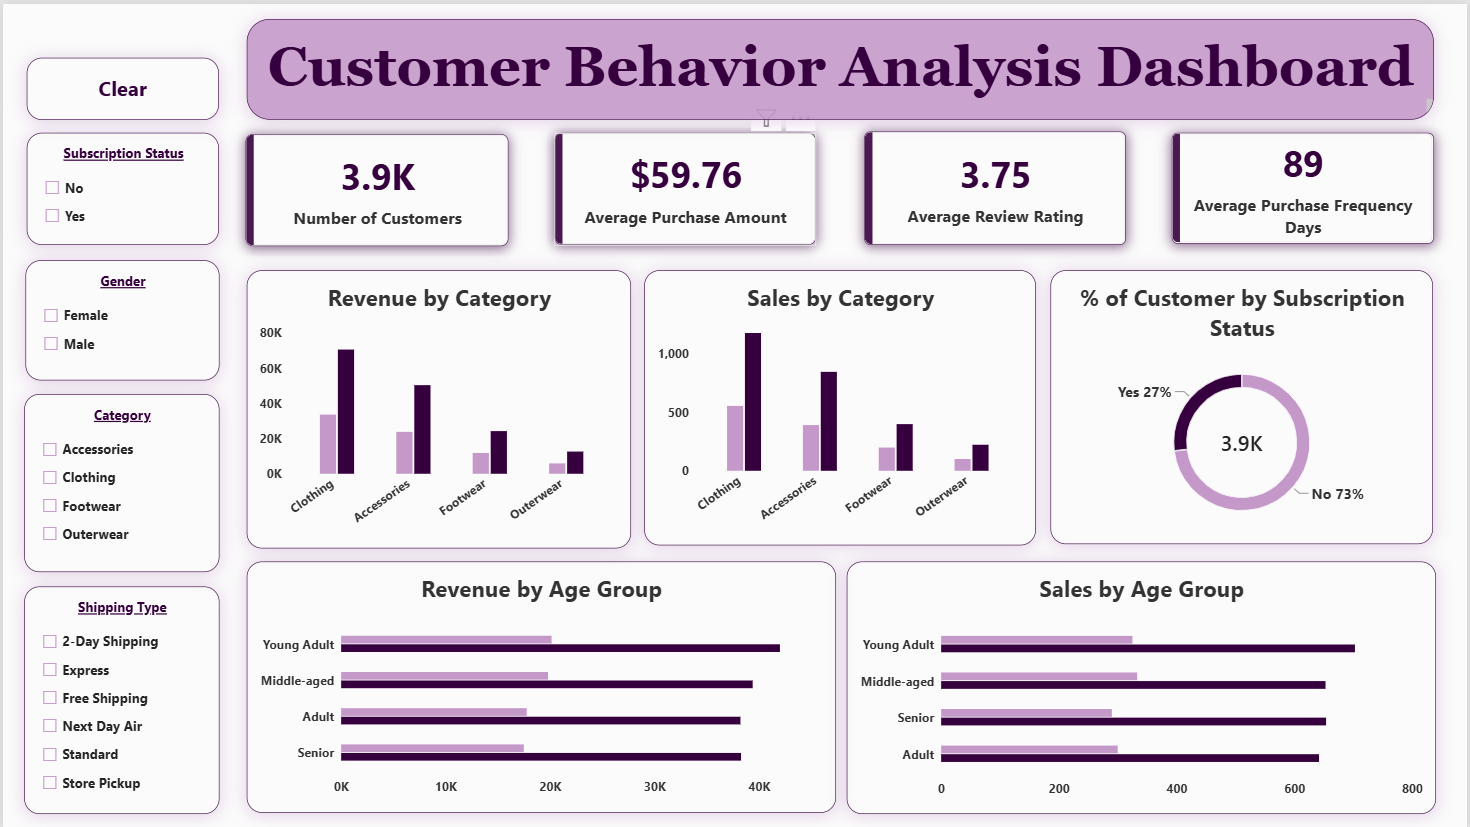

The dashboard page shown, as its layout file describes it:
{"tool":"powerbi","page":{"name":"Page 1","canvas":[1920,1080],"ordinal":0},"visuals":[{"type":"cardVisual","fields":{"Data":["Count(customer_analysis.customer_id)"]},"box":[317.6,170.6,345.1,147.1],"z":0},{"type":"cardVisual","fields":{"Data":["Avg(customer_analysis.purchase_amount)"]},"box":[723.5,168.6,343.1,147.1],"z":1000},{"type":"cardVisual","fields":{"Data":["Avg(customer_analysis.review_rating)"]},"box":[1129.4,166.7,343.1,149],"z":2000},{"type":"cardVisual","fields":{"Data":["Avg(customer_analysis.purchase_frequency_days)"]},"box":[1532.8,169.4,343.8,145.7],"z":3000},{"type":"textbox","title":"Customer Behavior Analysis Dashboard","box":[320.1,20.3,1556.5,132.1],"z":4000},{"type":"clusteredColumnChart","title":"Revenue by Category","fields":{"Y":["Sum(customer_analysis.purchase_amount)"],"Series":["customer_analysis.gender"],"Category":["customer_analysis.category"]},"box":[319.6,349,503.9,364.7],"z":5000},{"type":"clusteredColumnChart","title":"Sales by Category ","fields":{"Category":["customer_analysis.category"],"Series":["customer_analysis.gender"],"Y":["CountNonNull(customer_analysis.previous_purchases)"]},"box":[841.2,349,513.7,360.8],"z":6000},{"type":"clusteredBarChart","title":"Revenue by Age Group ","fields":{"Category":["customer_analysis.age_group"],"Y":["Sum(customer_analysis.purchase_amount)"],"Series":["customer_analysis.gender"]},"box":[319.6,731.4,772.5,329.4],"z":7000},{"type":"clusteredBarChart","title":"Sales by Age Group","fields":{"Category":["customer_analysis.age_group"],"Y":["CountNonNull(customer_analysis.previous_purchases)"],"Series":["customer_analysis.gender"]},"box":[1105.9,731.4,772.5,331.4],"z":8000},{"type":"donutChart","title":"% of  Customer by Subscription Status","fields":{"Category":["customer_analysis.subscription_status"],"Y":["CountNonNull(customer_analysis.subscription_status)"]},"box":[1374.5,349,502,358.8],"z":9000},{"type":"slicer","title":"Subscription Status","fields":{"Values":["customer_analysis.subscription_status"]},"box":[30.5,169.4,252.4,147.4],"z":10000},{"type":"slicer","title":"Gender","fields":{"Values":["customer_analysis.gender"]},"box":[28.8,335.4,254.1,157.5],"z":11000},{"type":"slicer","title":"Category","fields":{"Values":["customer_analysis.category"]},"box":[27.1,511.5,255.8,233.7],"z":12000},{"type":"slicer","title":"Shipping Type","fields":{"Values":["customer_analysis.shipping_type"]},"box":[27.1,763.9,255.8,298.1],"z":13000},{"type":"actionButton","box":[30.5,71.1,252.4,81.3],"z":14000}]}

Visuals, with their boxes in screenshot pixels (x1, y1, x2, y2), scaled from the page's 1920x1080 canvas onto the 1470x827 screenshot:
cardVisual - Count(customer_analysis.customer_id): bbox=[243, 131, 507, 243]
cardVisual - Avg(customer_analysis.purchase_amount): bbox=[554, 129, 817, 242]
cardVisual - Avg(customer_analysis.review_rating): bbox=[865, 128, 1127, 242]
cardVisual - Avg(customer_analysis.purchase_frequency_days): bbox=[1174, 130, 1437, 241]
"Customer Behavior Analysis Dashboard" textbox: bbox=[245, 16, 1437, 117]
"Revenue by Category" clusteredColumnChart: bbox=[245, 267, 630, 547]
"Sales by Category " clusteredColumnChart: bbox=[644, 267, 1037, 544]
"Revenue by Age Group " clusteredBarChart: bbox=[245, 560, 836, 812]
"Sales by Age Group" clusteredBarChart: bbox=[847, 560, 1438, 814]
"% of  Customer by Subscription Status" donutChart: bbox=[1052, 267, 1437, 542]
"Subscription Status" slicer: bbox=[23, 130, 217, 243]
"Gender" slicer: bbox=[22, 257, 217, 377]
"Category" slicer: bbox=[21, 392, 217, 571]
"Shipping Type" slicer: bbox=[21, 585, 217, 813]
actionButton: bbox=[23, 54, 217, 117]
